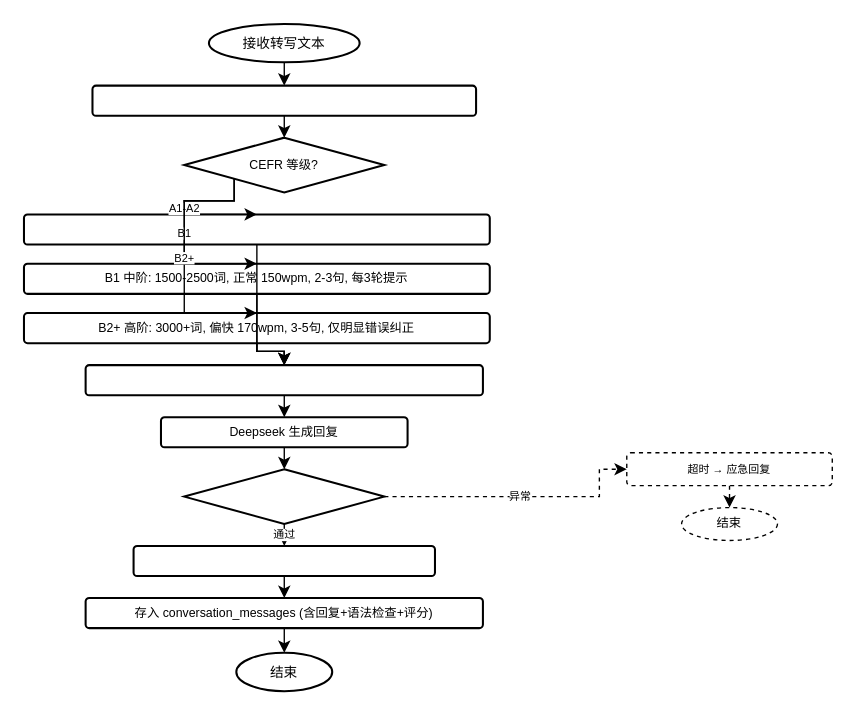
The diagram is 858 pixels wide and 717 high, and some of its shapes have lost their labels. The centre of each missing label's shape, as x and y in pixels:
"A1-A2 基础: 500-1000词, 慢语速 120wpm, 1-2句, 每轮轻提示" goes at (256,229).
"TTS 语音合成 + 返回回复文本" goes at (283,560).
"组装 Prompt (等级策略 + 场景上下文 + 10轮历史)" goes at (283,379).
"获取 CEFR 等级 + 场景 ID + 前 10 轮上下文" goes at (283,100).
"质量检查?" goes at (284,496).
